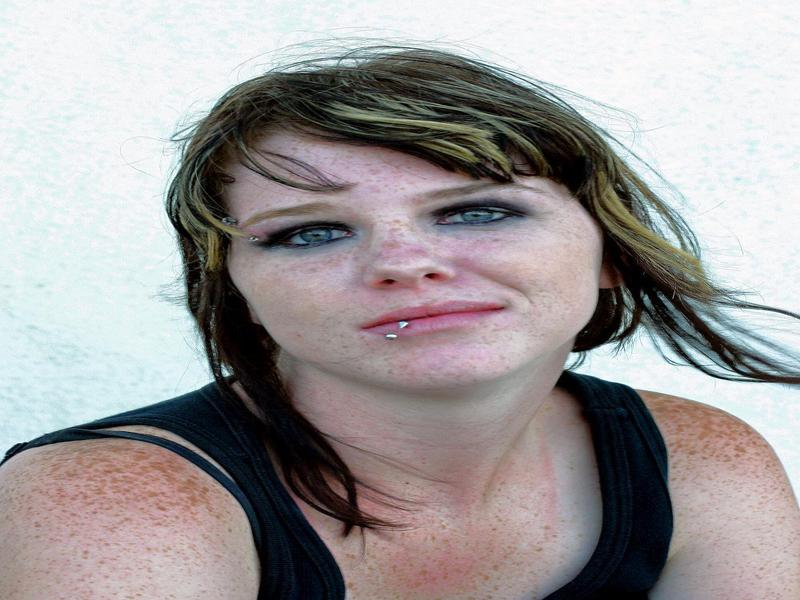person: (1, 61, 800, 600)
